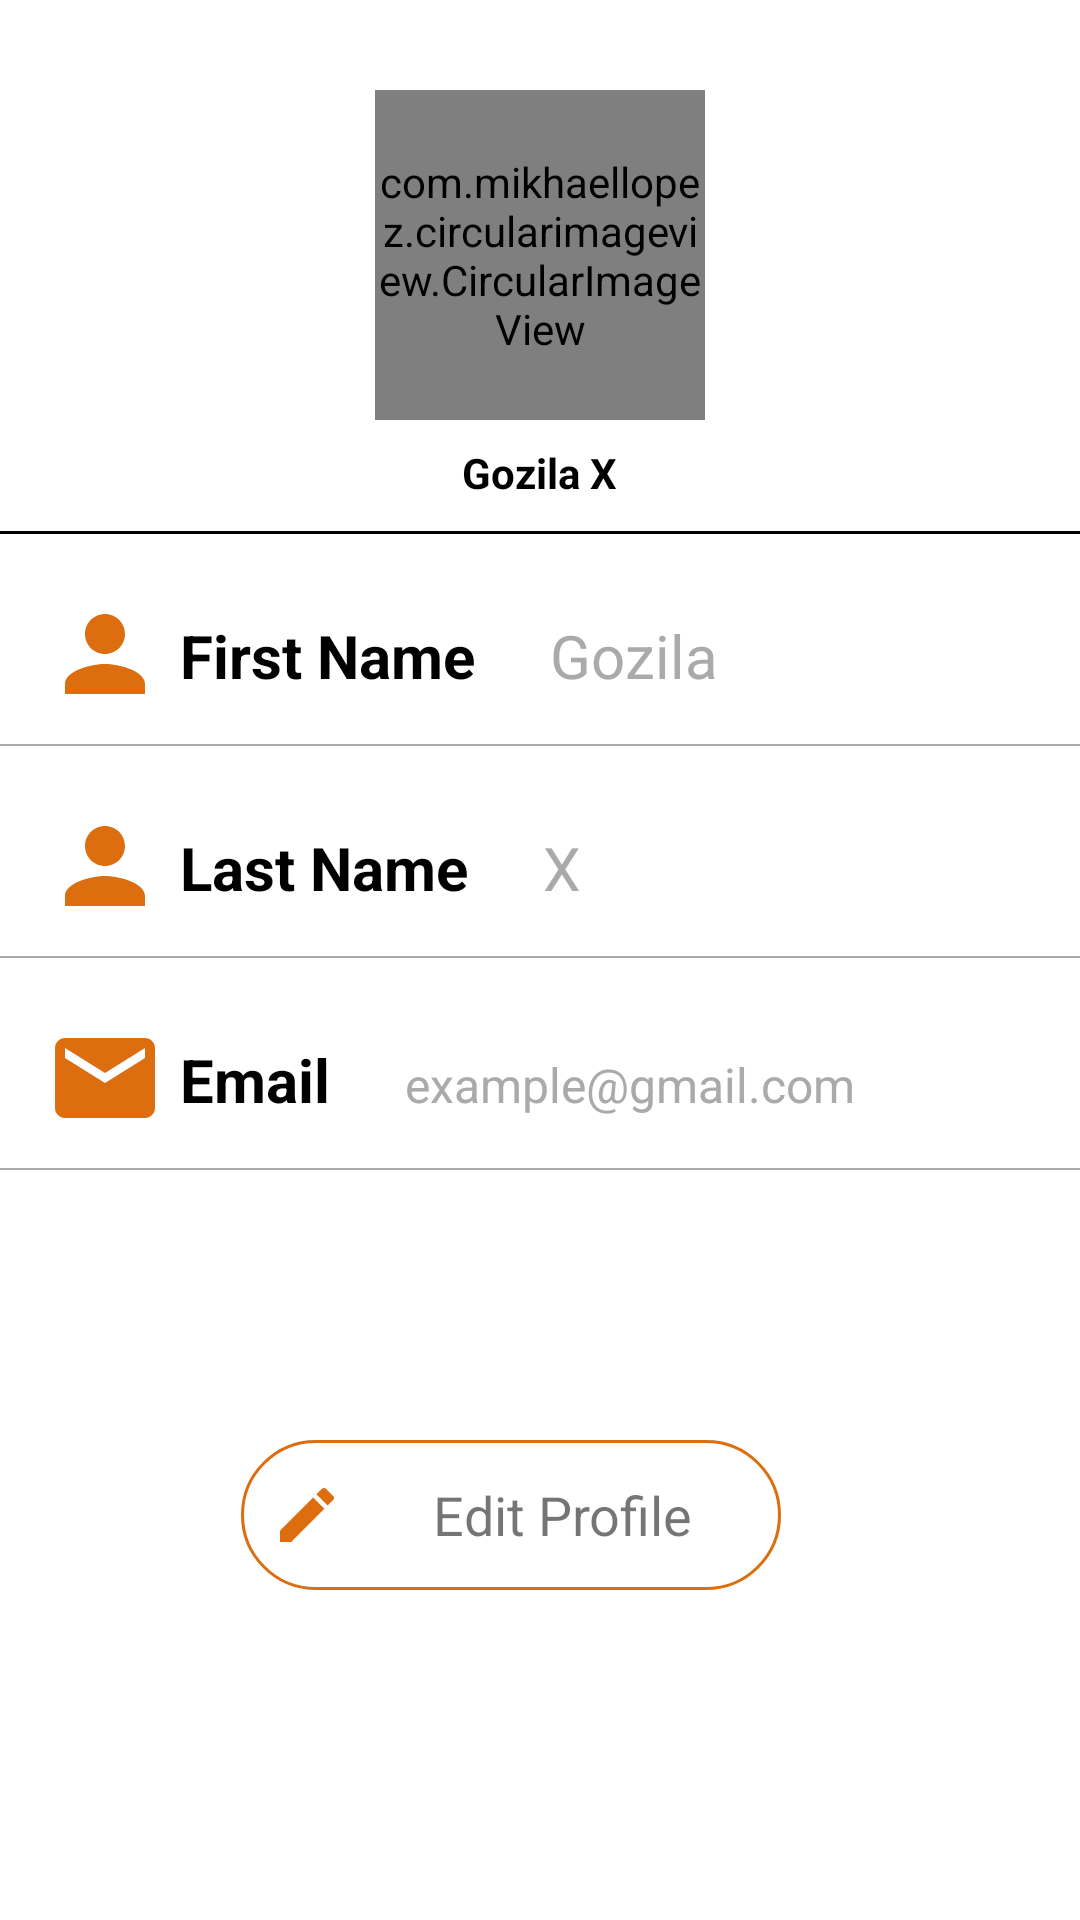

Point at icon controls on the screen. Image size 1080w x 1920h, points as [x,y].
person: [105,654], [105,866]
